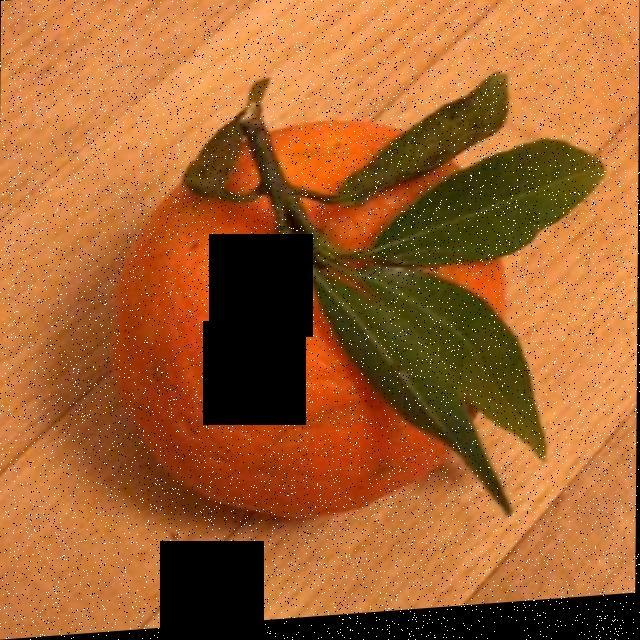orange: (111, 74, 591, 522)
